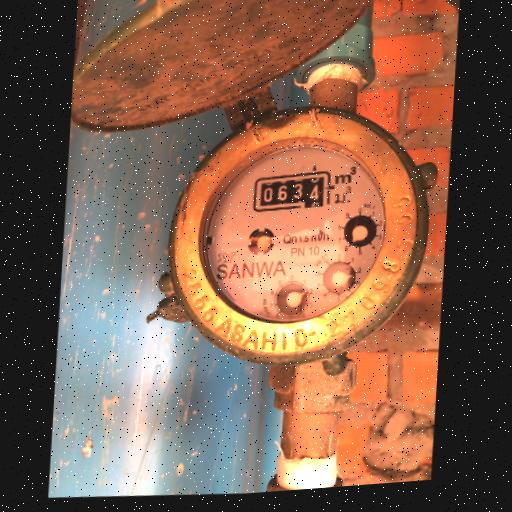0: (259, 182, 274, 208)
3: (288, 177, 306, 205)
4: (303, 176, 324, 209)
6: (272, 179, 290, 206)
border_water_meter_number: (251, 167, 333, 216)
